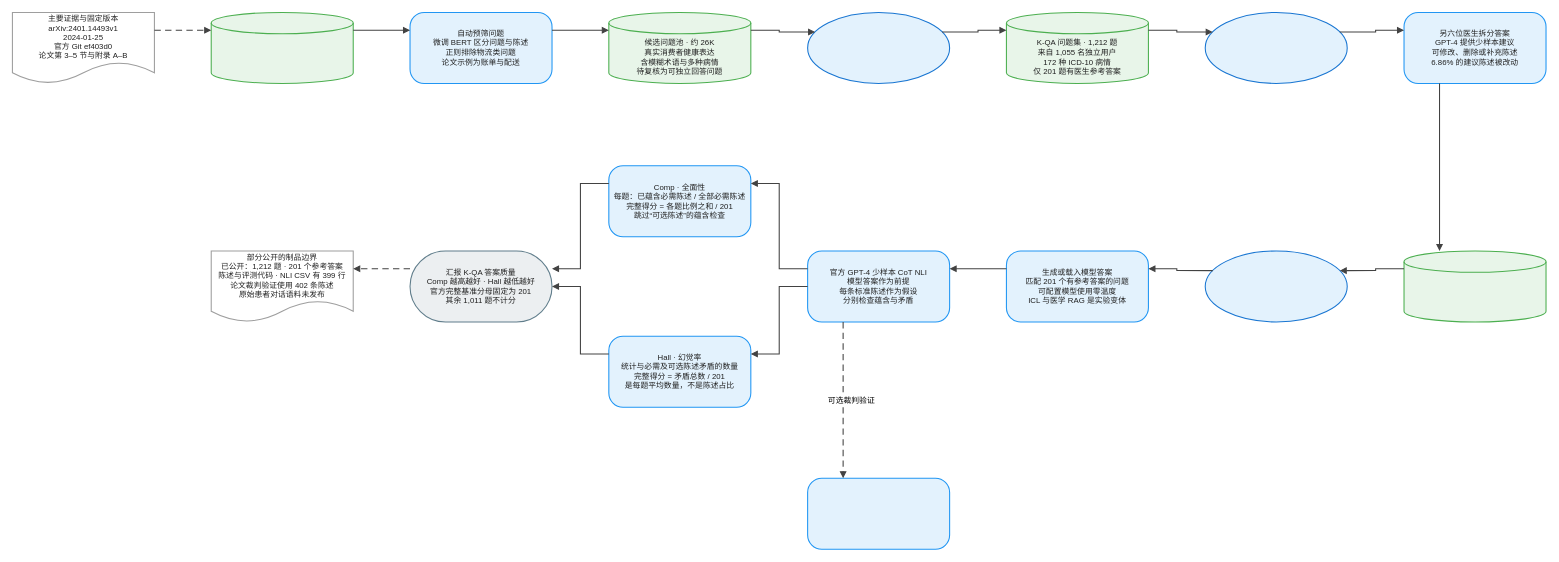
Image size: 1559x562. Some labels were removed from this diagram. Each missing label, with the centre of its shape:
为 201 题编写医生参考答案 六位医生回答不同问题子集 复核医生 · UpToDate / PubMed 面向普通读者 禁用生成式 AI · 约 400 小时: pixel 1275 48
产出 1,589 条自包含陈述 每个医生答案平均 7.9 条 892 条必需 + 697 条可选 每条表达一个独立事实: pixel 1474 286
医疗专业人员复核 逐一检查每个候选问题 要求问题可独立回答 标注一个 ICD-10 病情: pixel 878 48
可选 NLI 裁判验证 50 个问答对 · 402 条陈述 三位医生标注并多数投票 Fleiss Kappa = 0.70: pixel 878 513
来源：K Health 对话 真实患者—医生文本互动 论文称问题已经去标识化 原始对话语料未发布: pixel 281 48
标注临床重要性 与拆分阶段相同的六位医生 必需：临床关键 · 可选：补充信息 小组讨论达成共识 · 约 20 小时: pixel 1275 286
